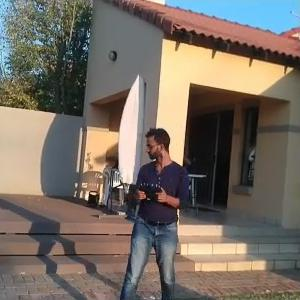follow: (116, 120, 190, 298)
